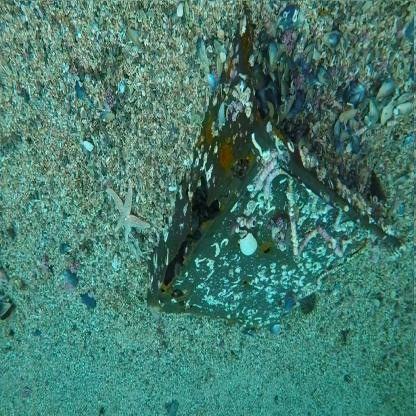electronics: (183, 68, 395, 350)
